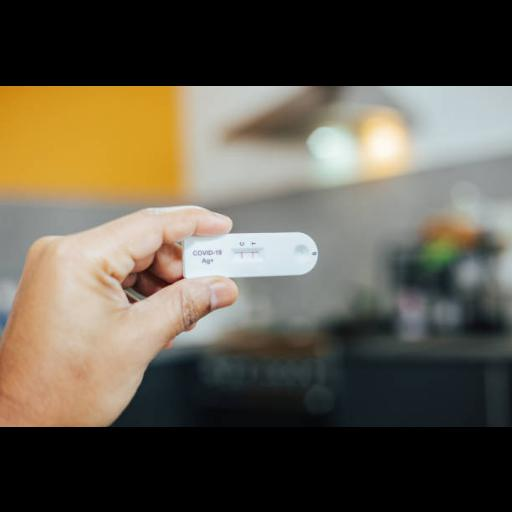Pos: (186, 231, 316, 275)
